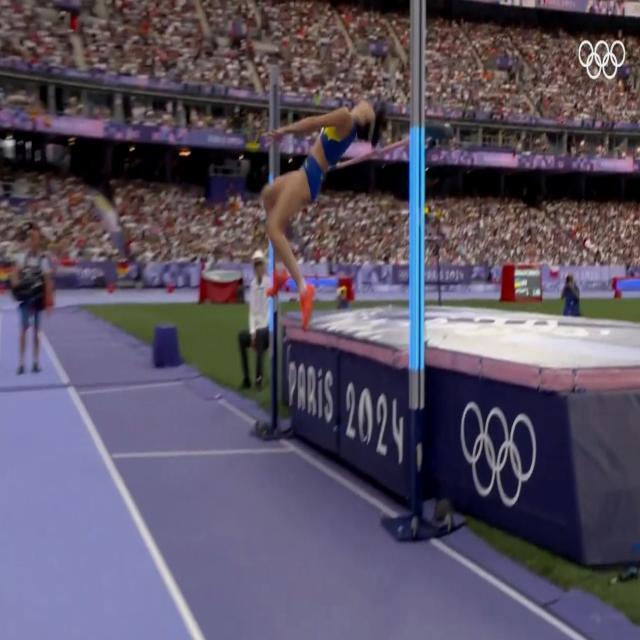jump: (262, 100, 389, 331)
